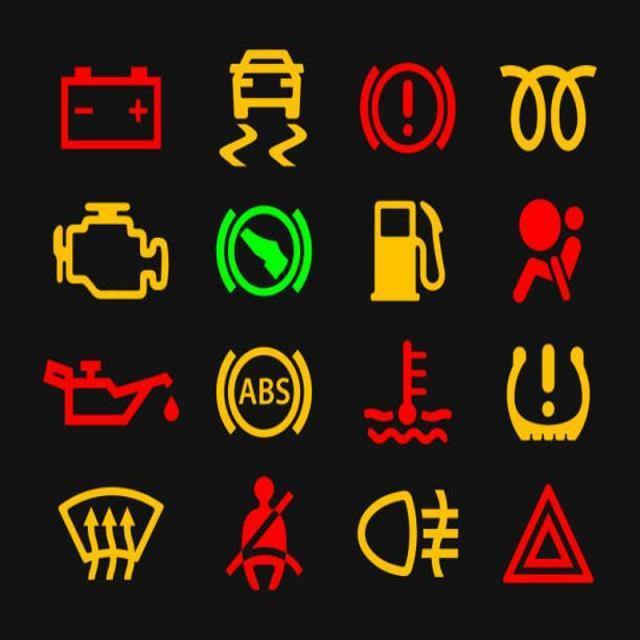BatteryWarning: (59, 64, 160, 148)
EngineWarning: (51, 200, 168, 298)
HandBrakeWarning: (358, 61, 454, 152)
